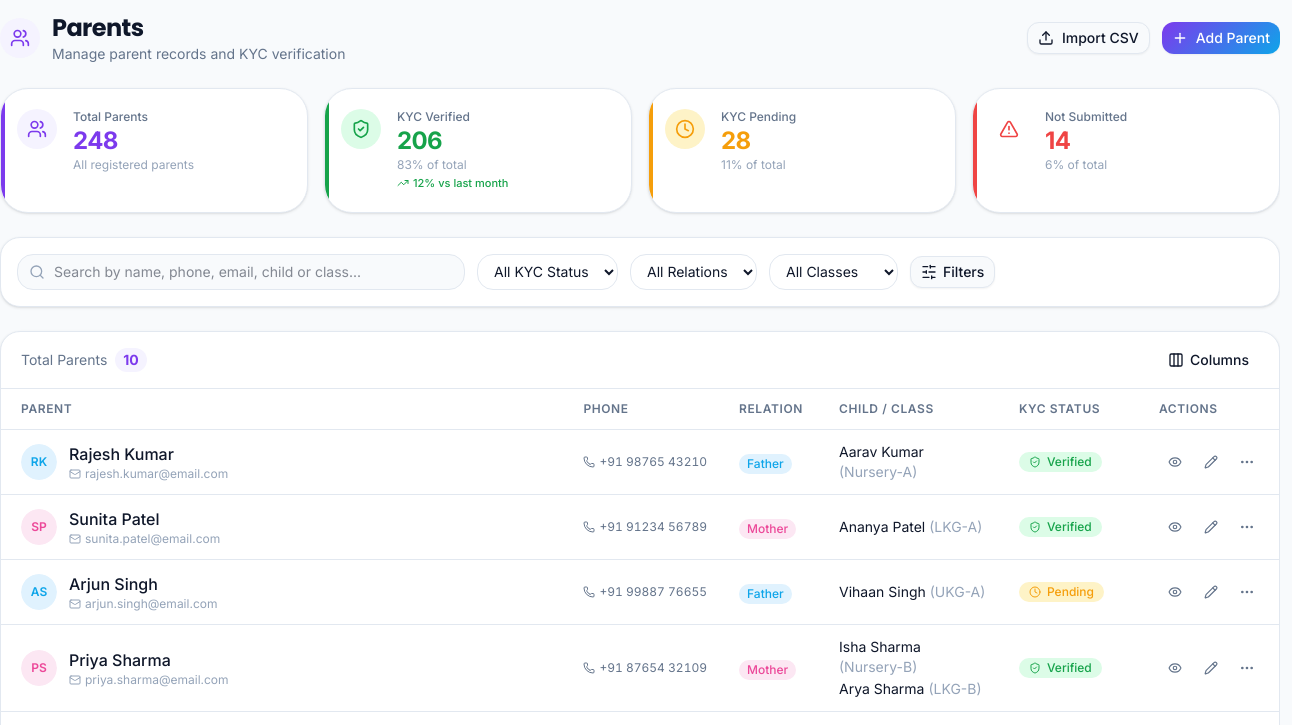
Test: ParentsListPage › Filter Bar › filters by Class dropdown
Select "Nursery-A" in the 3rd dropdown showing "All Classes" at (834, 272), box [769,254,898,290]
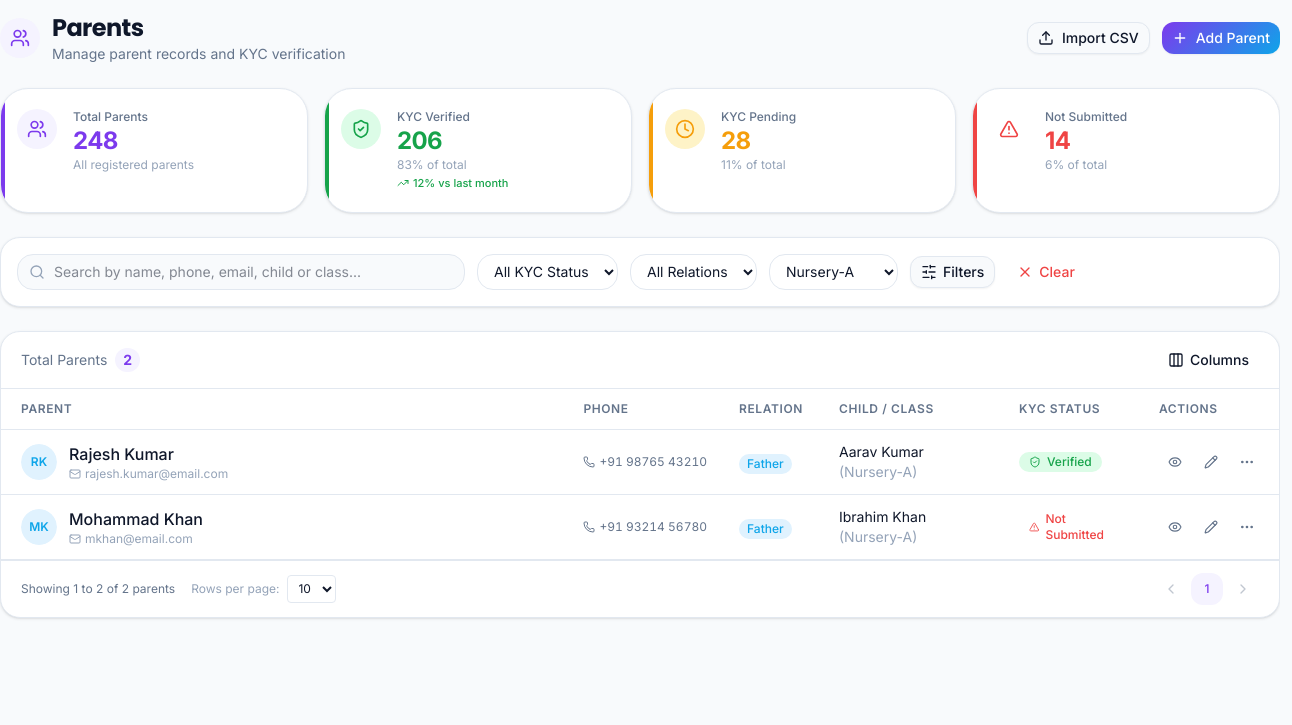
Expected: the text "Rajesh Kumar" is shown, [69,444,174,464]
Now the text "Sunita Patel" is gone
